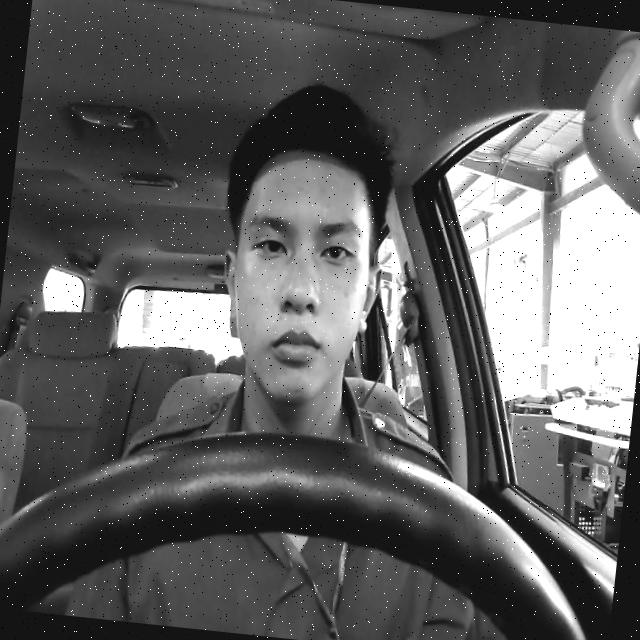focused: (208, 143, 394, 410)
